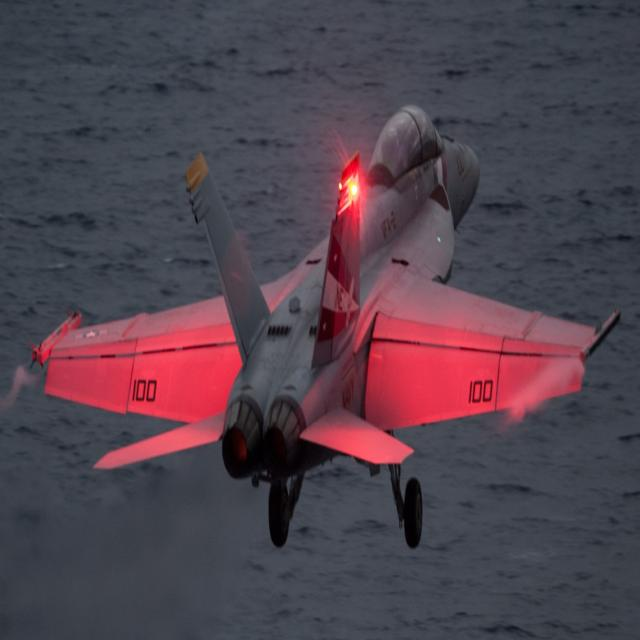MIL_Plane: (29, 104, 621, 550)
